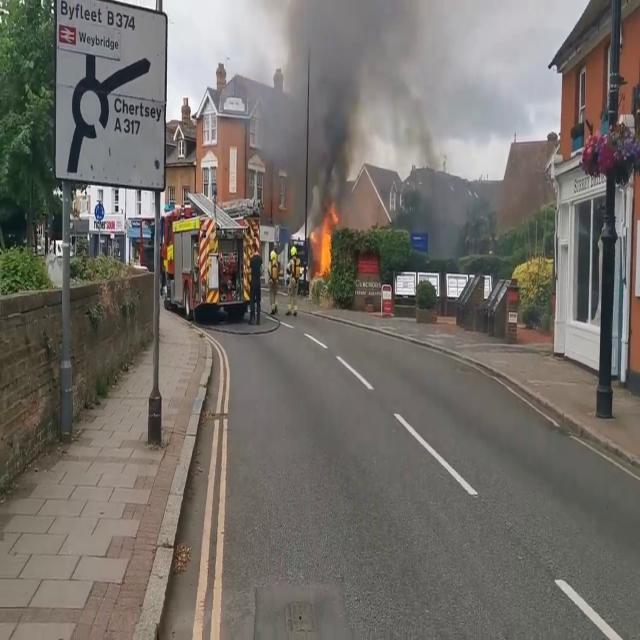Fire: (314, 207, 338, 277)
Smoke: (257, 1, 393, 220)
